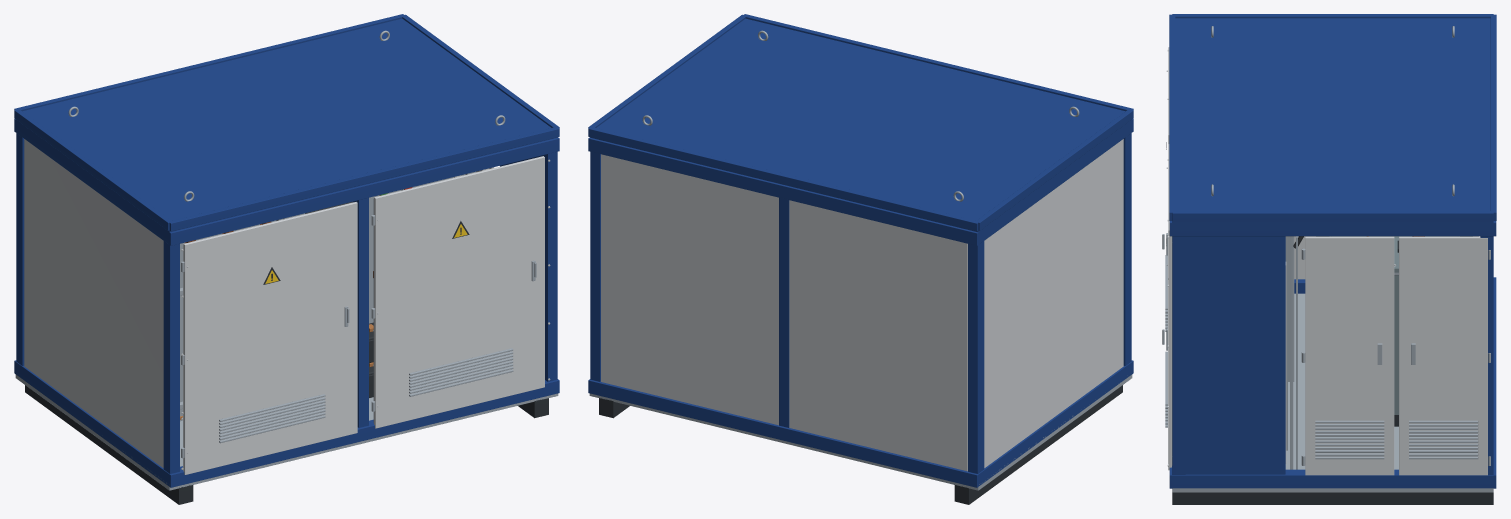
File: station.glb
3 renders of one model, left to right at view 1: azimuth 30°, elevation 25°; view 2: azimuth 150°, elevation 25°; view 3: azimuth 270°, elevation 25°, orthographic. The views are drawn at different scales.
Visible parts, largest first — view 1: Плоская крыша, Дверь РУВН. Стальной лист, Дверь РУНН. Стальной лист, Левая стенка, Поперечная балка каркаса.002, Отбортовка крыши, Поперечная балка каркаса, Вертикальная стойка каркаса, Вертикальная стойка каркаса.004, Вертикальная стойка каркаса.002, Боковая балка, Пол подстанции (+7 smaller); view 2: Задняя стенка, Плоская крыша, Левая стенка, Поперечная балка каркаса.001, Поперечная балка каркаса.003, Отбортовка крыши.001, Вертикальная стойка каркаса.001, Вертикальная стойка каркаса.003, Вертикальная стойка каркаса.005, Боковая балка, Отбортовка крыши.002, Вертикальная стойка каркаса (+5 smaller); view 3: Плоская крыша, Правая передняя неподвижная панель, Боковая дверь. Полотно, Боковая дверь. Полотно.001, Боковая балка.001, Боковая балка.003, Опорный швеллер.001, Пол подстанции, Отбортовка крыши.003, Вертикальная стойка каркаса.004, Отбортовка крыши.002, Отбортовка крыши (+10 smaller).
Part boxes in pixels (x1,y1,x2,y2): Плоская крыша: (15, 18, 558, 235); Дверь РУВН. Стальной лист: (183, 202, 357, 474); Дверь РУНН. Стальной лист: (374, 156, 544, 428); Левая стенка: (24, 139, 163, 467); Поперечная балка каркаса.002: (165, 137, 559, 245); Отбортовка крыши: (169, 127, 559, 231); Поперечная балка каркаса: (165, 379, 559, 487); Вертикальная стойка каркаса: (163, 229, 179, 473); Вертикальная стойка каркаса.004: (542, 151, 557, 381); Вертикальная стойка каркаса.002: (352, 183, 368, 427); Боковая балка: (15, 362, 169, 485); Пол подстанции: (15, 374, 558, 490); Задняя стенка: (601, 154, 967, 471); Плоская крыша: (589, 18, 1132, 232); Левая стенка: (984, 139, 1123, 467); Поперечная балка каркаса.001: (588, 379, 982, 487); Поперечная балка каркаса.003: (588, 137, 981, 245); Отбортовка крыши.001: (588, 127, 979, 231); Вертикальная стойка каркаса.001: (968, 229, 984, 473); Вертикальная стойка каркаса.003: (779, 197, 789, 427); Вертикальная стойка каркаса.005: (590, 151, 600, 381); Боковая балка: (978, 362, 1131, 485); Отбортовка крыши.002: (976, 109, 1133, 230); Вертикальная стойка каркаса: (1123, 133, 1131, 365); Плоская крыша: (1172, 18, 1493, 227); Правая передняя неподвижная панель: (1185, 236, 1285, 474); Боковая дверь. Полотно: (1305, 236, 1394, 475); Боковая дверь. Полотно.001: (1399, 236, 1487, 475); Боковая балка.001: (1172, 469, 1493, 488); Боковая балка.003: (1172, 223, 1493, 236); Опорный швеллер.001: (1172, 492, 1493, 504); Пол подстанции: (1172, 293, 1493, 492); Отбортовка крыши.003: (1172, 211, 1493, 221); Вертикальная стойка каркаса.004: (1172, 236, 1185, 474); Отбортовка крыши.002: (1172, 14, 1493, 18); Отбортовка крыши: (1169, 14, 1175, 220).
Size of the model in its own units: 3.54 by 2.52 by 2.5.
